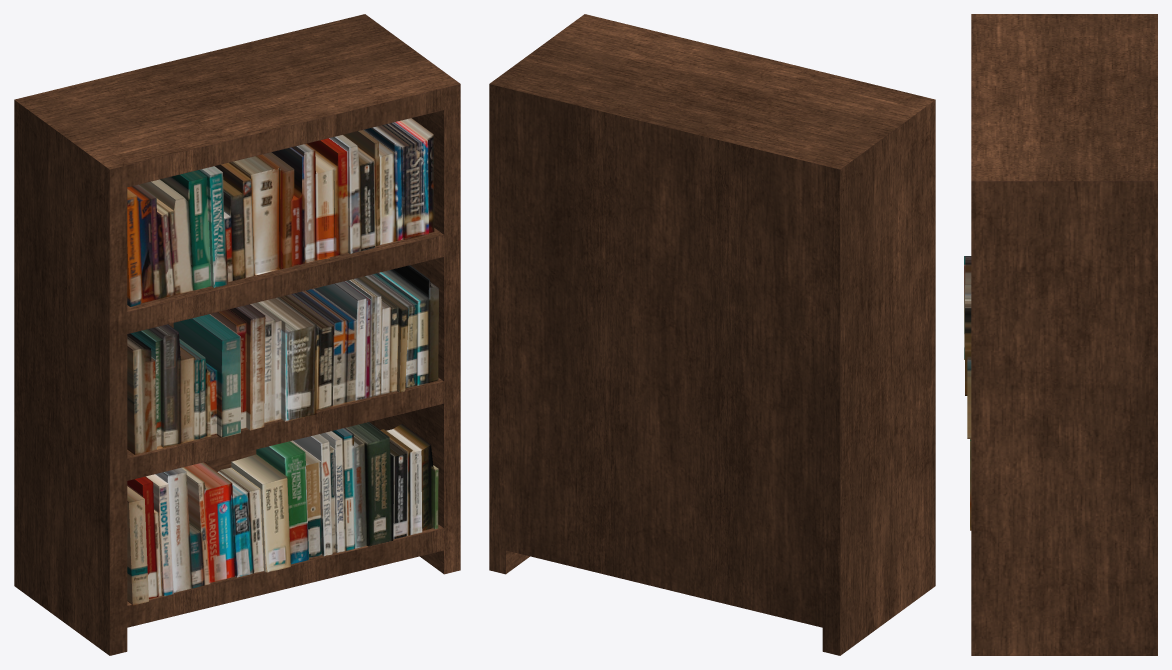
Rendered from bookshelf.glb.
3 renders of one model, left to right at view 1: azimuth 30°, elevation 25°; view 2: azimuth 150°, elevation 25°; view 3: azimuth 270°, elevation 25°, orthographic. The views are drawn at different scales.
Visible parts, largest first — view 1: Shelf, Row 2, Row 1, Row 3; view 2: Shelf; view 3: Shelf, Row 2.
Part boxes in pixels (x1,y1,x2,y2): Shelf: [14, 14, 460, 655]; Row 2: [127, 265, 439, 454]; Row 1: [127, 422, 438, 605]; Row 3: [127, 118, 434, 306]; Shelf: [489, 14, 935, 655]; Shelf: [971, 14, 1157, 655]; Row 2: [964, 256, 971, 438].
Bounding box in the file's own units: 1.8 × 2.38 × 0.8794.
2 materials, 2 textured.
